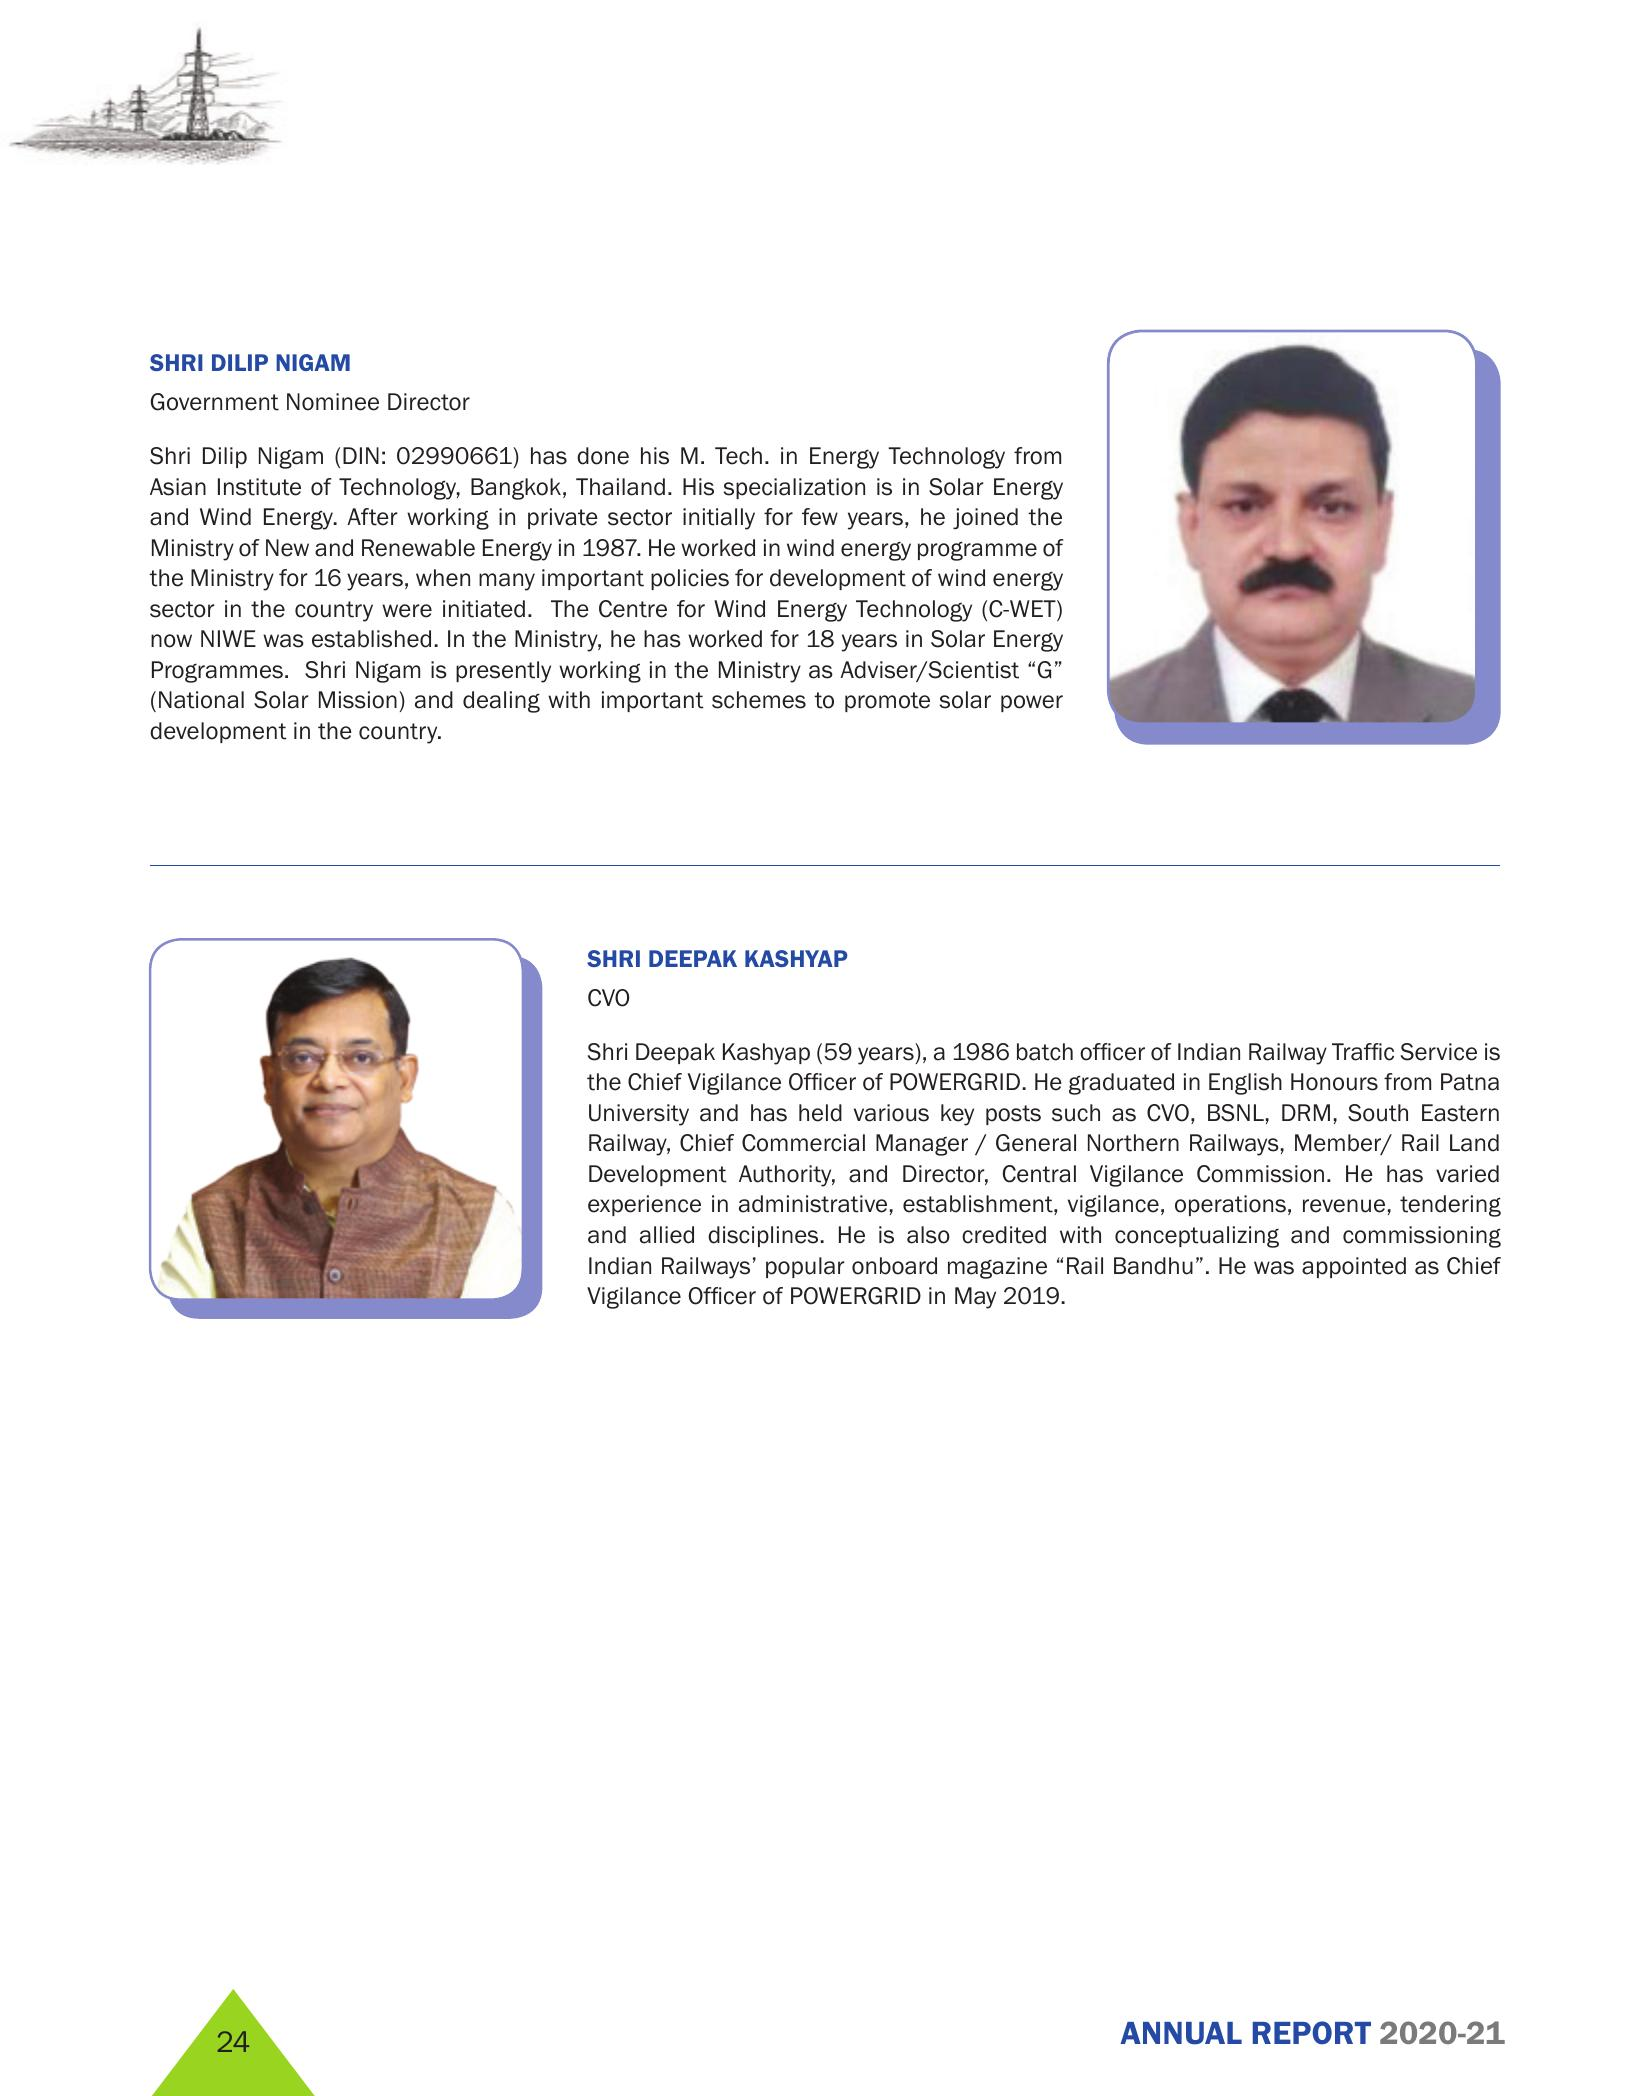Footer: (0, 1962, 1650, 2096)
Header: (0, 0, 1650, 180)
Image: (1073, 306, 1536, 752), (134, 919, 555, 1347)
